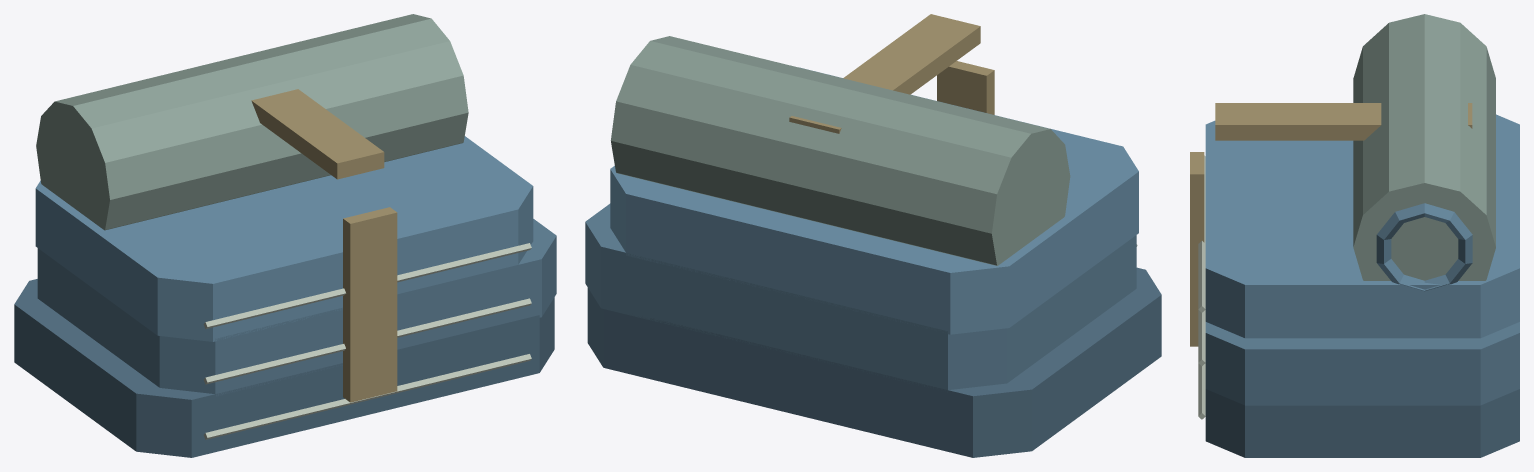
File: cloth.glb
3 renders of one model, left to right at view 1: azimuth 30°, elevation 25°; view 2: azimuth 150°, elevation 25°; view 3: azimuth 270°, elevation 25°, orthographic. The views are drawn at different scales.
Visible parts, largest first — view 1: geometry; view 2: geometry; view 3: geometry.
Boxes of the visible parts, box(x1,y1,x2,y2) form: geometry: box(14, 14, 556, 457); geometry: box(585, 14, 1161, 457); geometry: box(1190, 14, 1519, 457).
Size of the model in its own units: 0.4925 by 0.3025 by 0.3465.
